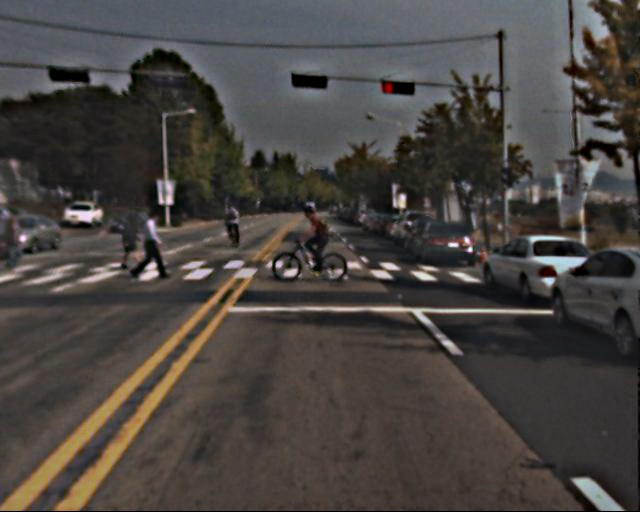person: (139, 206, 169, 278), (308, 206, 338, 276), (3, 215, 41, 266), (120, 214, 144, 269), (225, 205, 242, 244)
